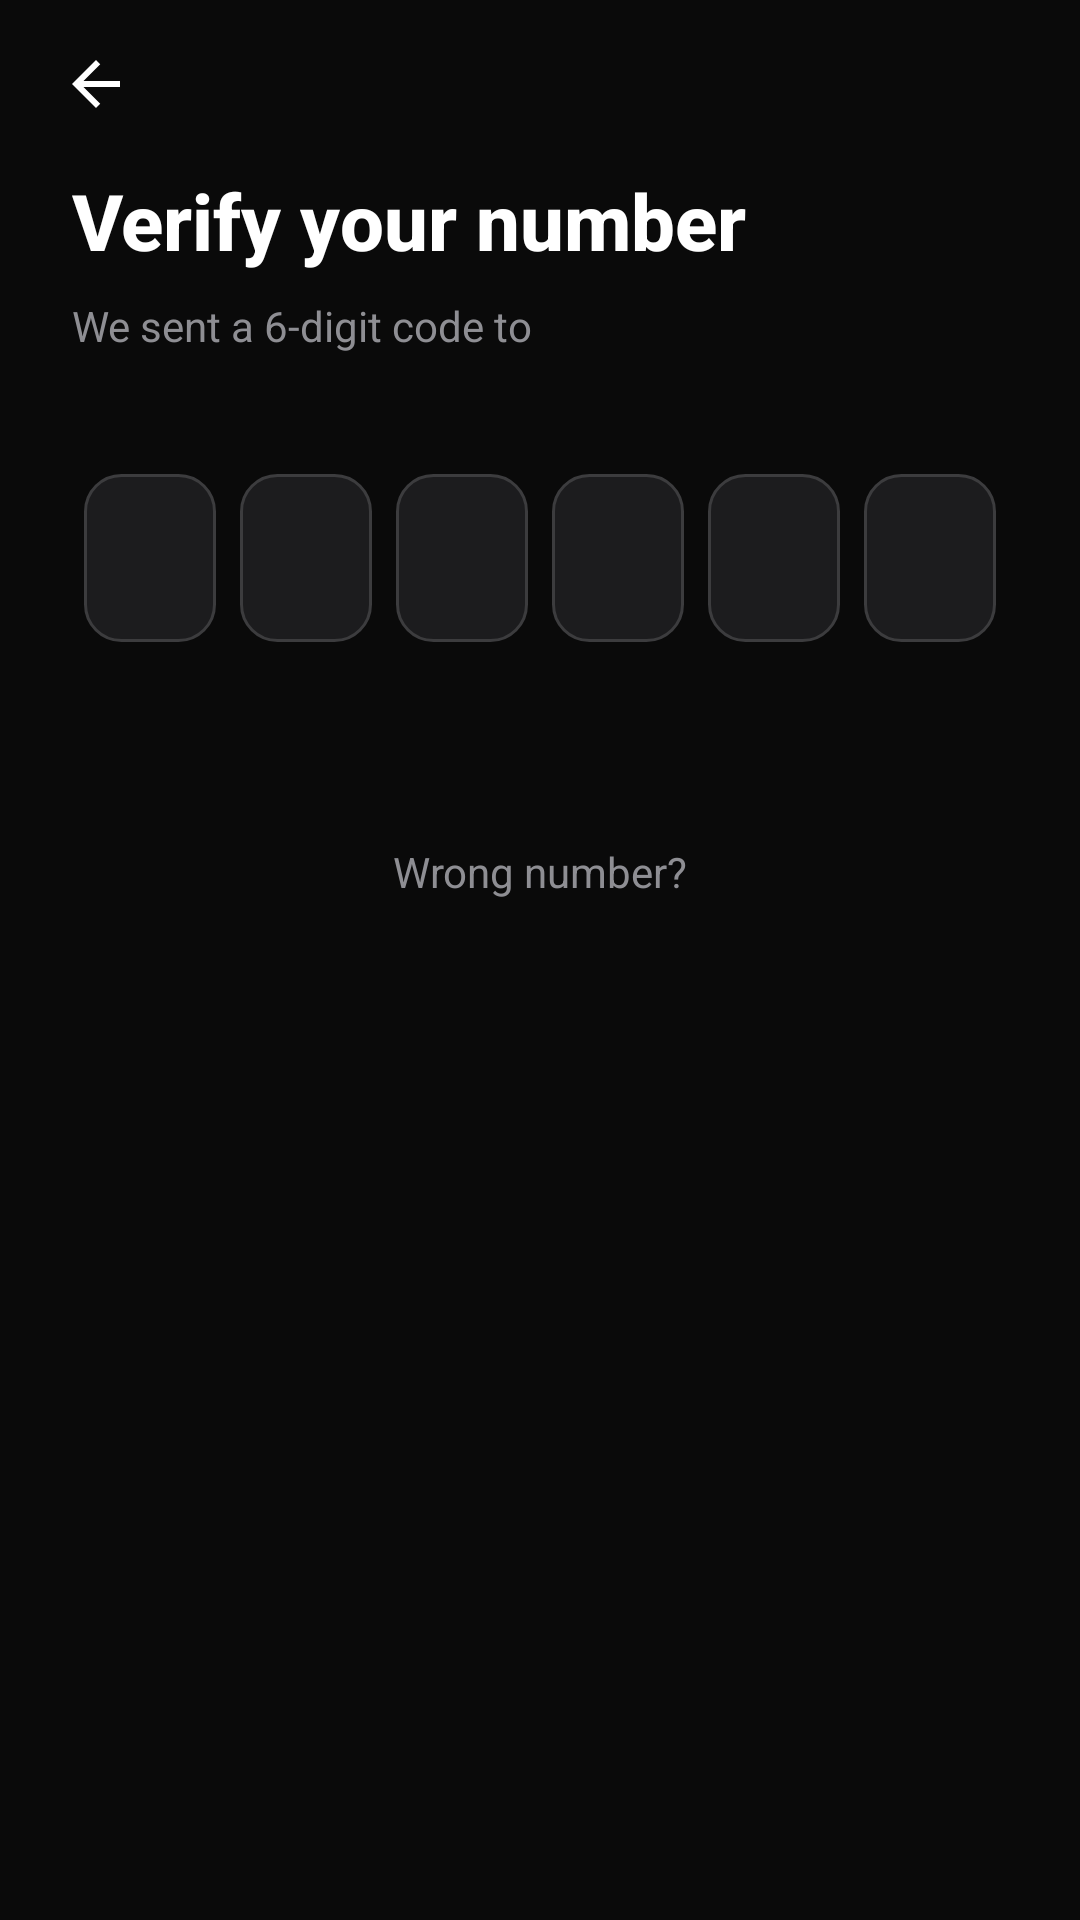

Locate icon controls on the screen. Image size 1080 × 1920, boxes as (x1, y1, x2, y2).
arrow back: (72, 60, 120, 108)
